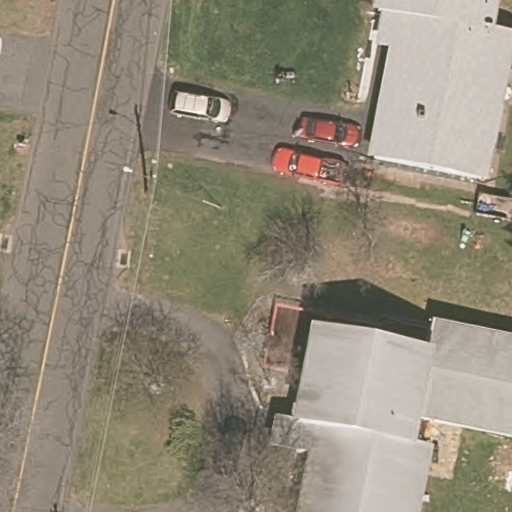DT: (123, 159, 159, 182)
